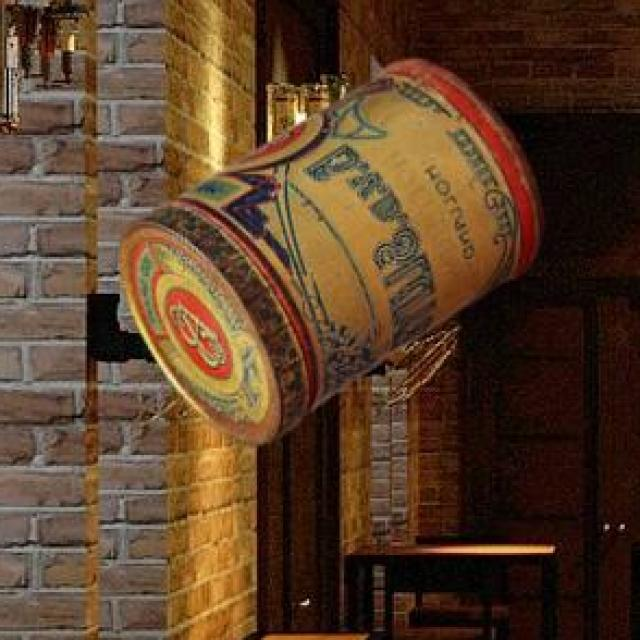logam: (123, 56, 547, 441)
